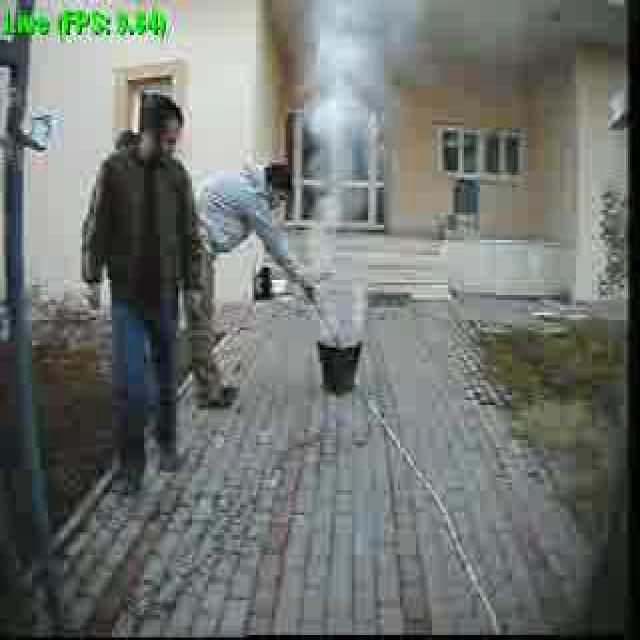Smoke: (313, 3, 369, 340)
